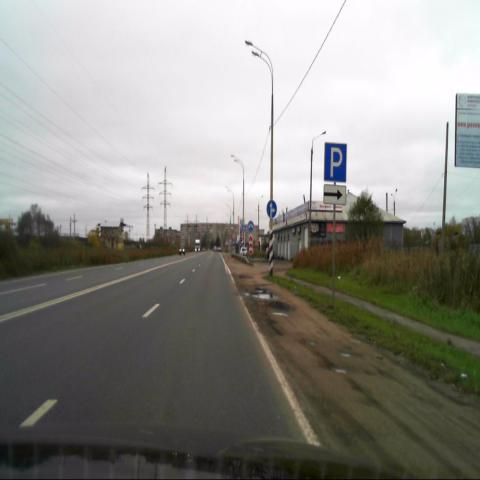6_4: (323, 142, 347, 183)
8_3_1: (323, 184, 346, 205)
